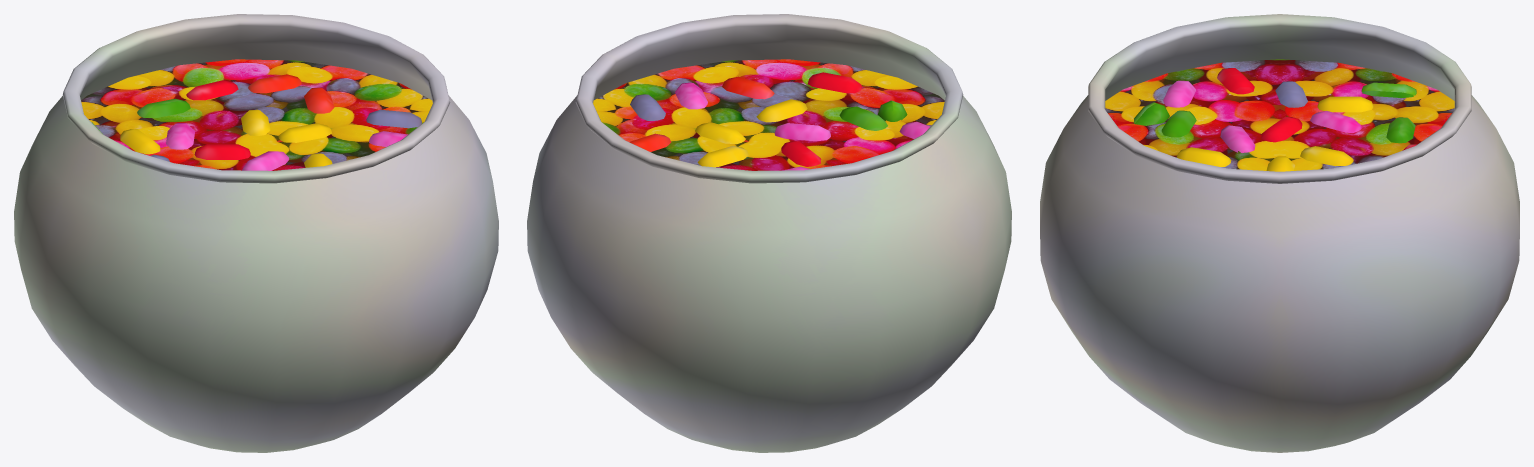
The model's file is CandyCan01.FBX.
3 renders of one model, left to right at view 1: azimuth 30°, elevation 25°; view 2: azimuth 150°, elevation 25°; view 3: azimuth 270°, elevation 25°, orthographic.
Visible parts, largest first — view 1: CandyCan01; view 2: CandyCan01; view 3: CandyCan01.
Boxes of the visible parts, x1,y1,x2,y2 form: CandyCan01: [14, 14, 498, 452]; CandyCan01: [527, 14, 1011, 452]; CandyCan01: [1040, 14, 1519, 452].
Size of the model in its own units: 267 by 192 by 264.
